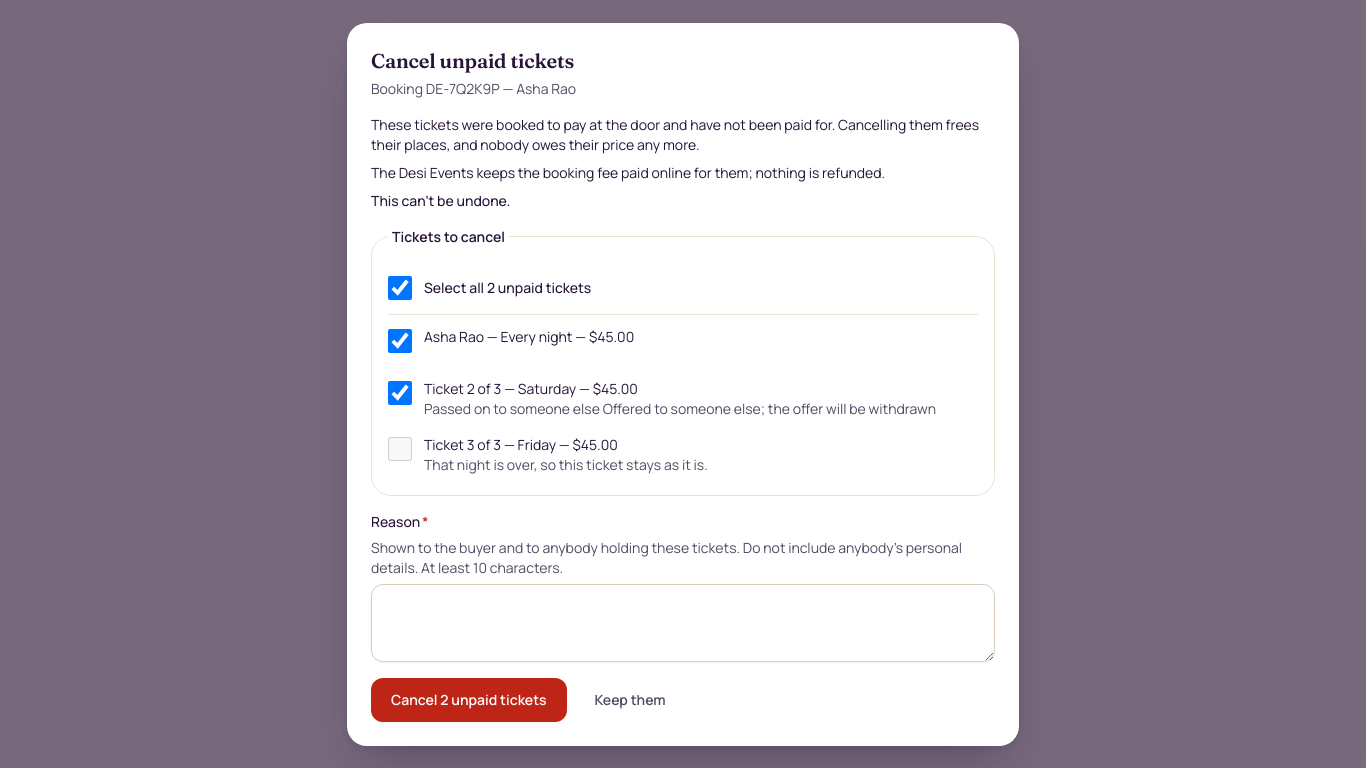
Scenario: what it reads, and what is ticked to start with › checks "Select all" when all are ticked, unchecks it when none is, and is indeterminate in between
expect the element "Tickets to cancel" is shown: met, box [371,226,995,496]
expect the checkbox labelled "Select all 2 unpaid tickets" is checked: met, box [388,276,412,300]
Click the checkbox labelled "Asha Rao — Every night — $45.00" at {"x": 400, "y": 340}, box [388,328,412,352]
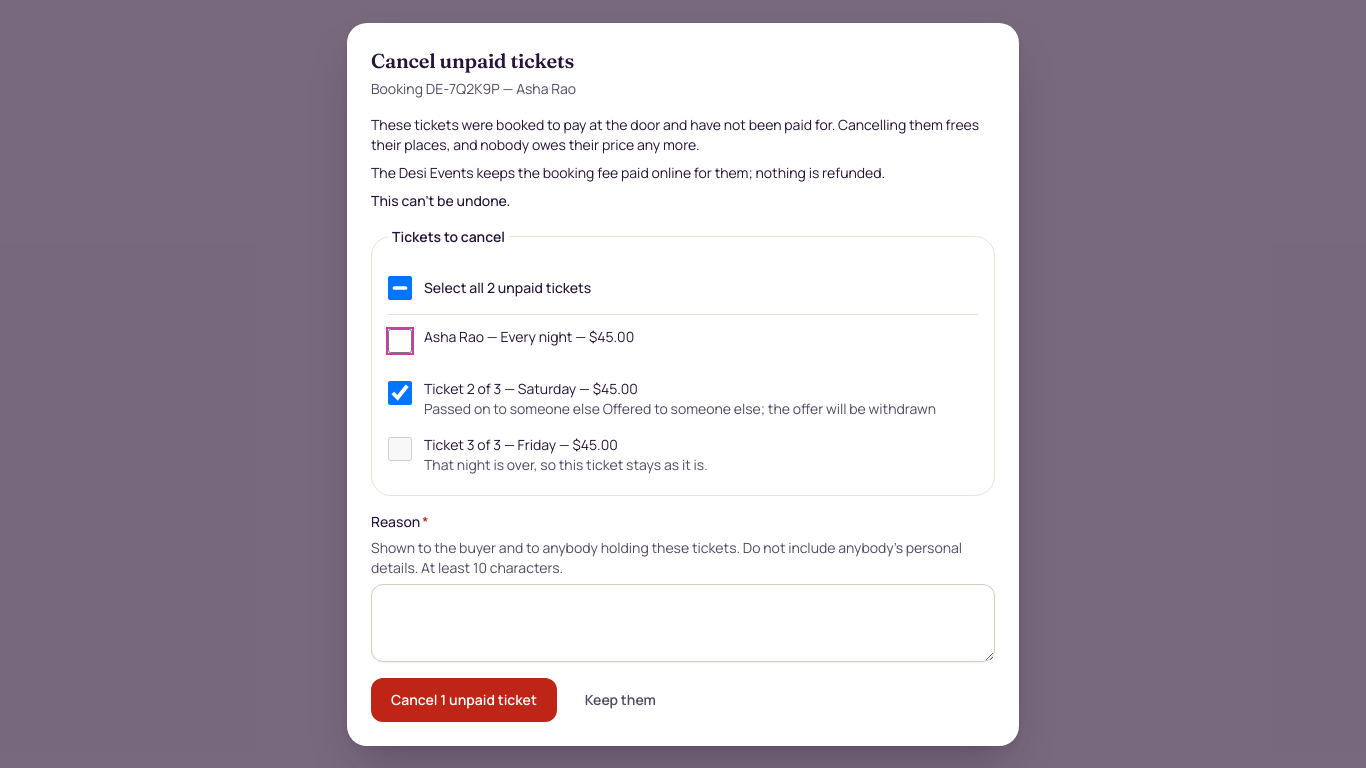
expect the button "Cancel 1 unpaid ticket" is enabled: met, box [371,678,557,722]
expect the checkbox labelled "Select all 2 unpaid tickets" is not checked: met
From in between, it ticks all.
Click the checkbox labelled "Select all 2 unpaid tickets" at {"x": 400, "y": 288}, box [388,276,412,300]
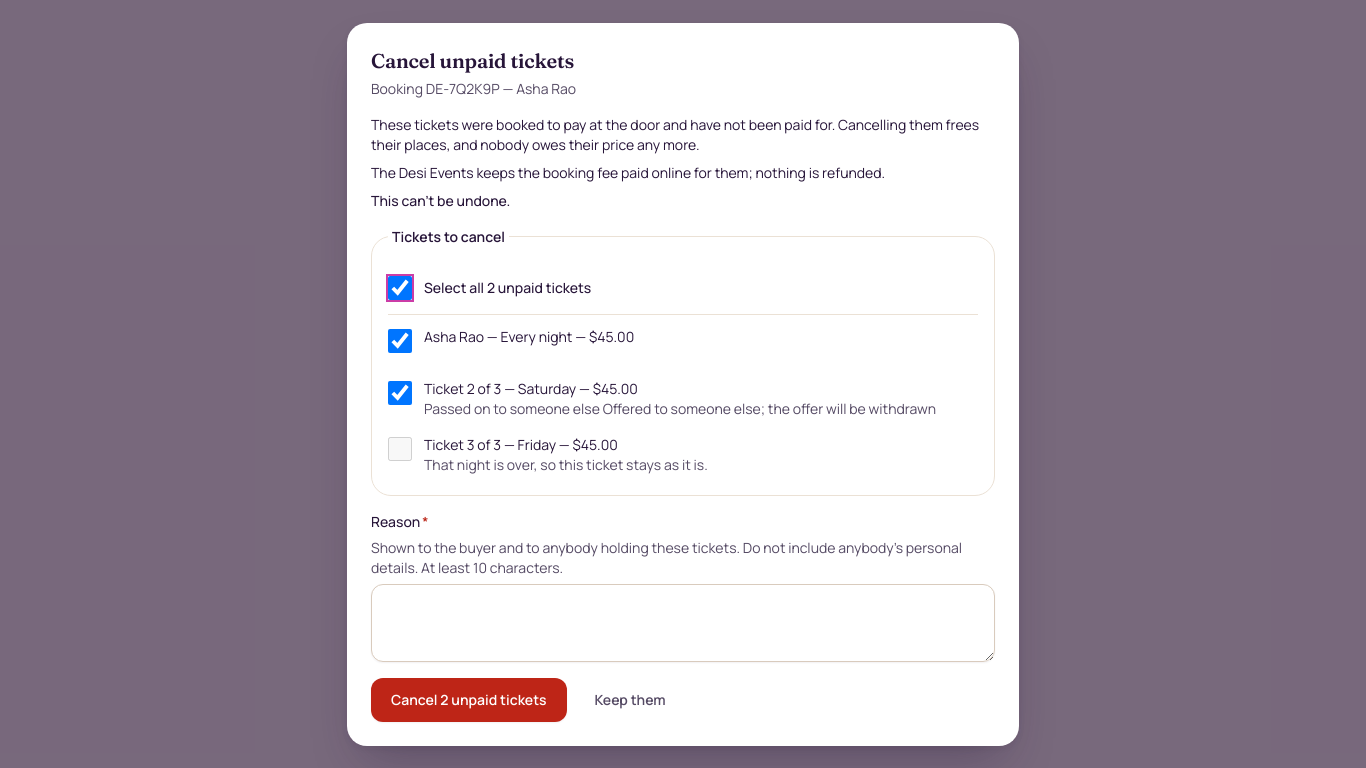
expect the checkbox labelled "Select all 2 unpaid tickets" is checked: met
expect the checkbox labelled "Asha Rao — Every night — $45.00" is checked: met, box [388,328,412,352]
Click the checkbox labelled "Select all 2 unpaid tickets" at {"x": 400, "y": 288}, box [388,276,412,300]
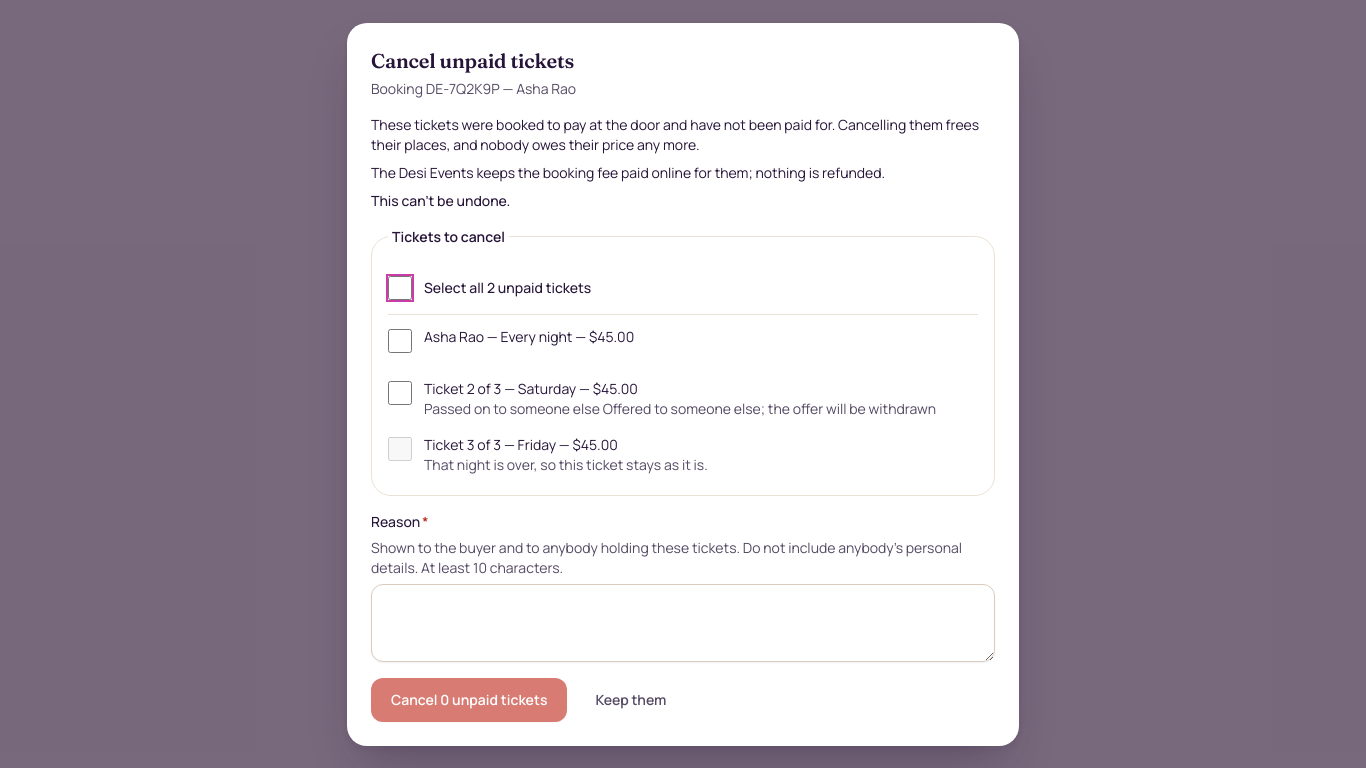
expect the checkbox labelled "Select all 2 unpaid tickets" is not checked: met, box [388,276,412,300]
expect the button "Cancel 0 unpaid tickets" is disabled: met, box [371,678,567,722]
